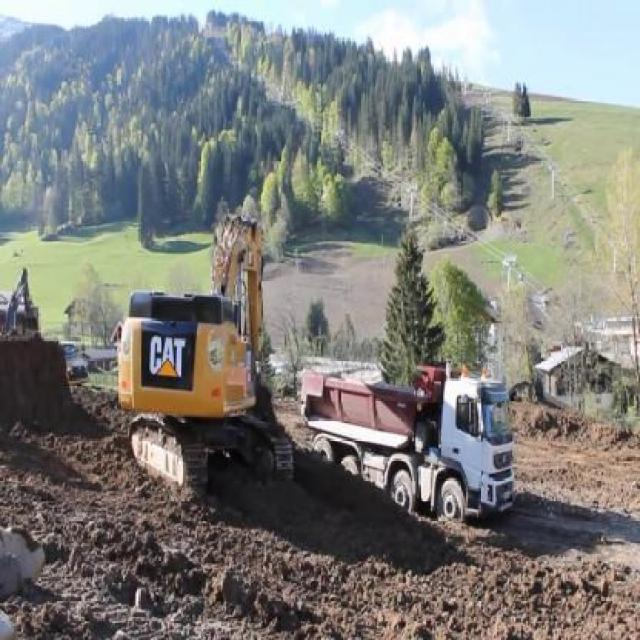dump_truck: (298, 355, 516, 527)
excavator: (114, 210, 294, 502)
